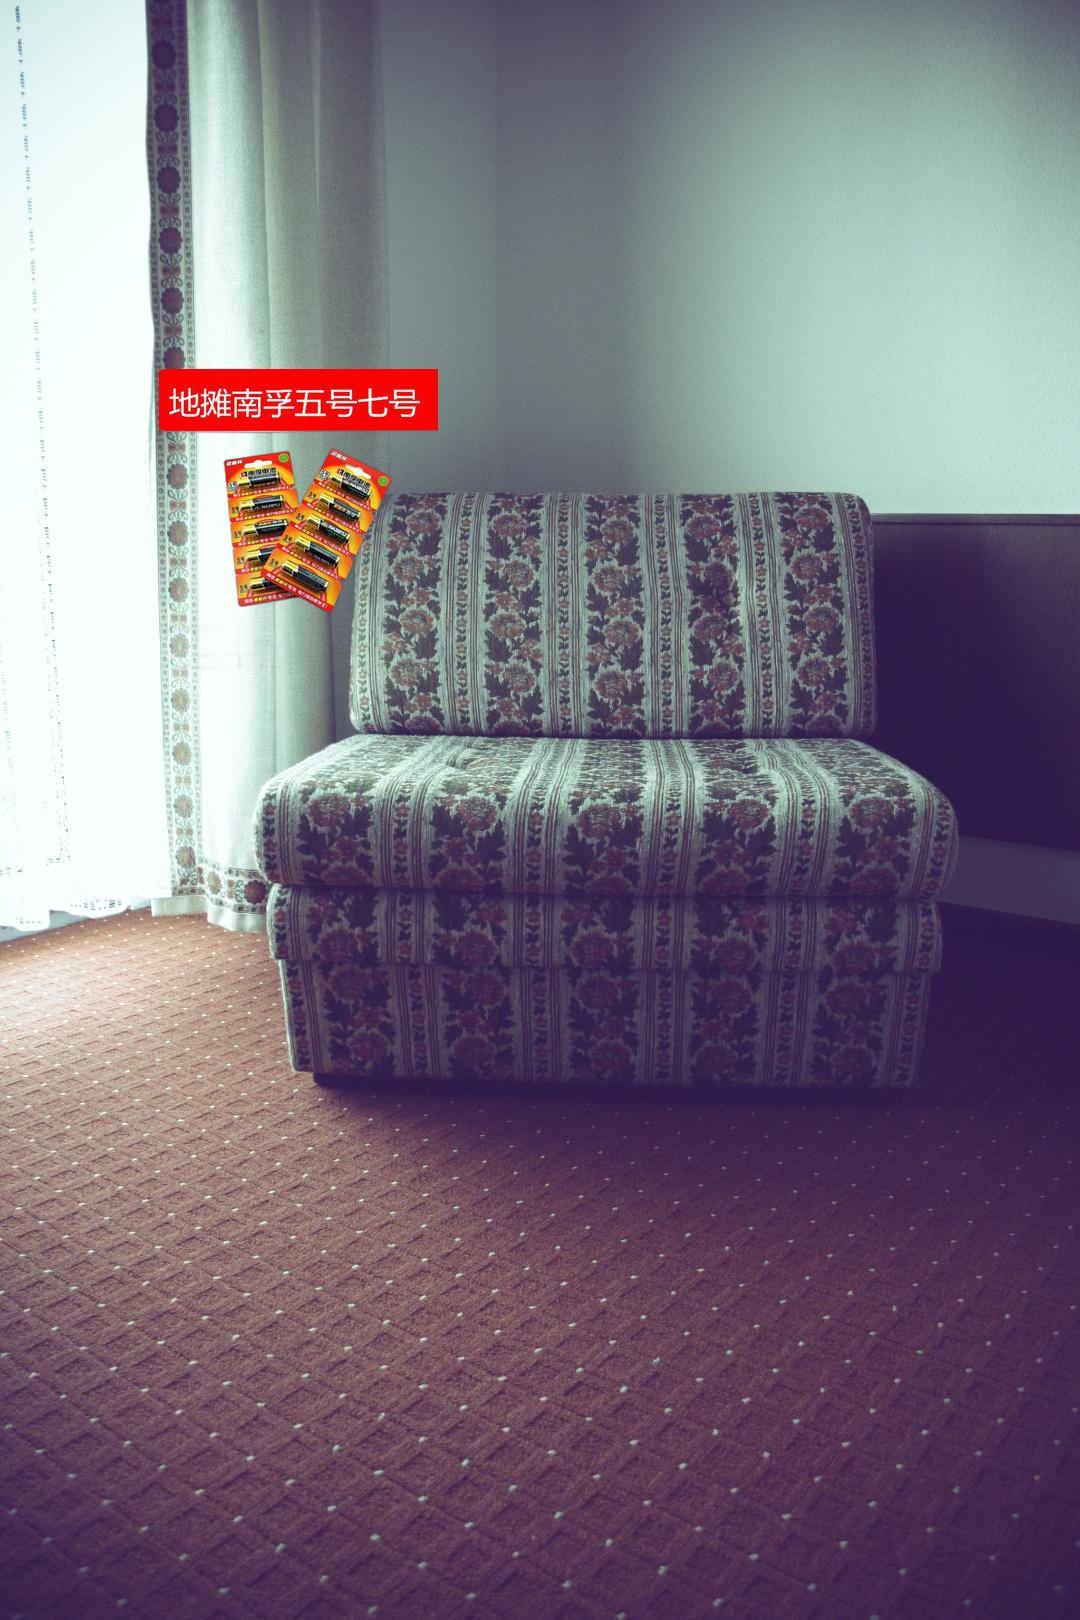battery: (159, 369, 438, 669)
